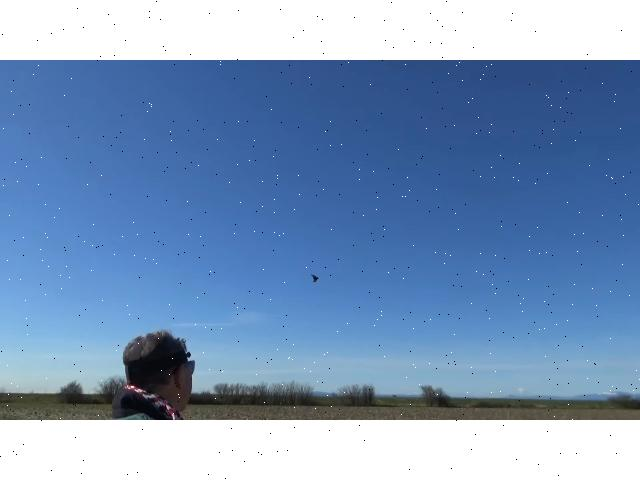Anti-Drone: (304, 266, 326, 290)
